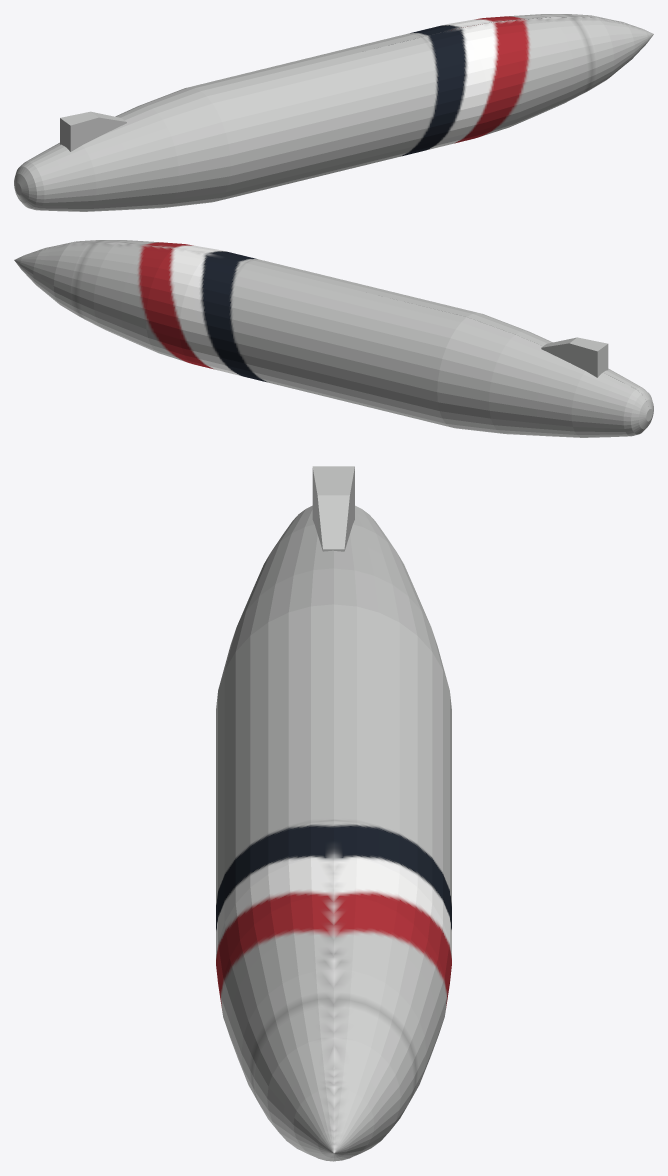
The model's file is ffa18e3vfa2.glb.
3 views of the same model, one above another, from view 1: azimuth 30°, elevation 25°; view 2: azimuth 150°, elevation 25°; view 3: azimuth 270°, elevation 25° (orthographic). The views are drawn at different scales.
Visible parts, largest first — view 1: 円柱.002; view 2: 円柱.002; view 3: 円柱.002.
Boxes of the visible parts, box(x1,y1,x2,y2) form: 円柱.002: box(14, 14, 653, 211); 円柱.002: box(14, 240, 653, 437); 円柱.002: box(216, 466, 451, 1161).
Bounding box in the file's own units: 5.8 × 0.9578 × 0.9344.
Materials: 1 (1 with a texture image).
